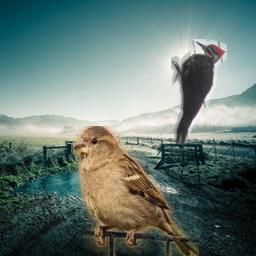Sparrow: (73, 126, 199, 256)
Woodpecker: (171, 39, 227, 144)
